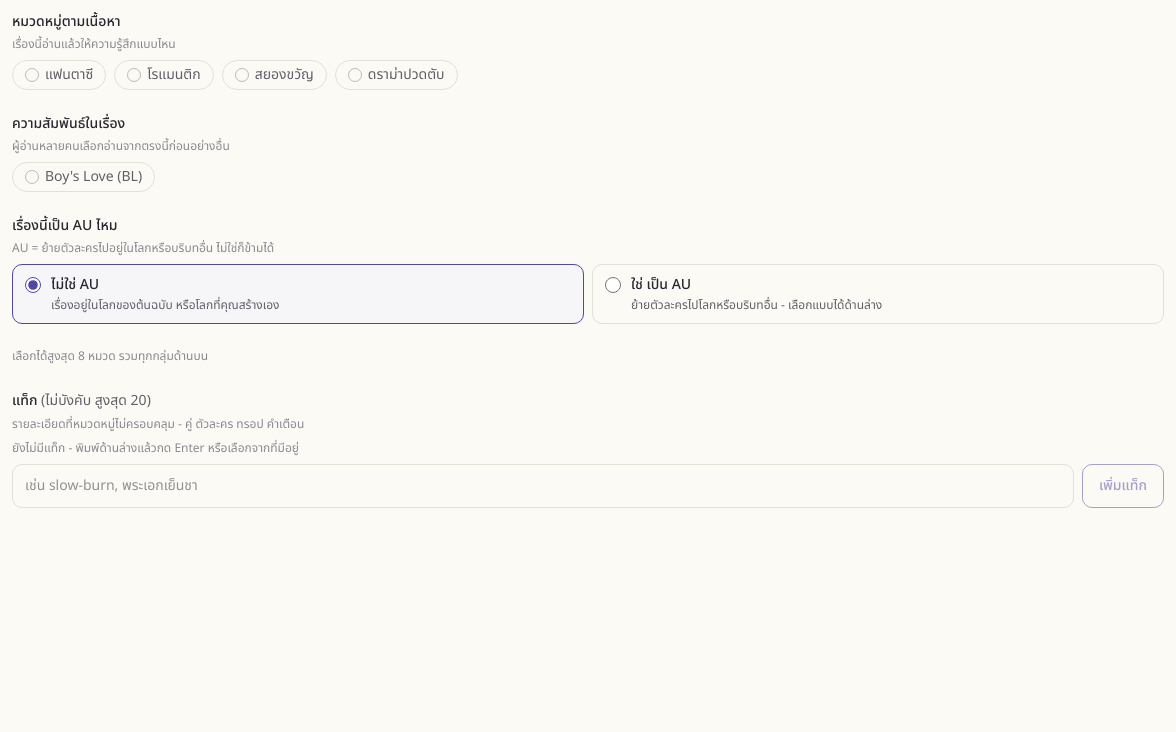
genre selection › keeps the AU list behind its switch
Expected: the text "เรื่องนี้เป็น AU ไหม" is shown, x1=12 y1=216 x2=118 y2=236
Expected: the field labelled "AU มหาลัย" is not shown
What coordinates should you click on to do the following:
click the radio button labelled "ใช่ เป็น AU"
I would click on:
 (613, 285)
Its box is x1=605 y1=277 x2=621 y2=293.
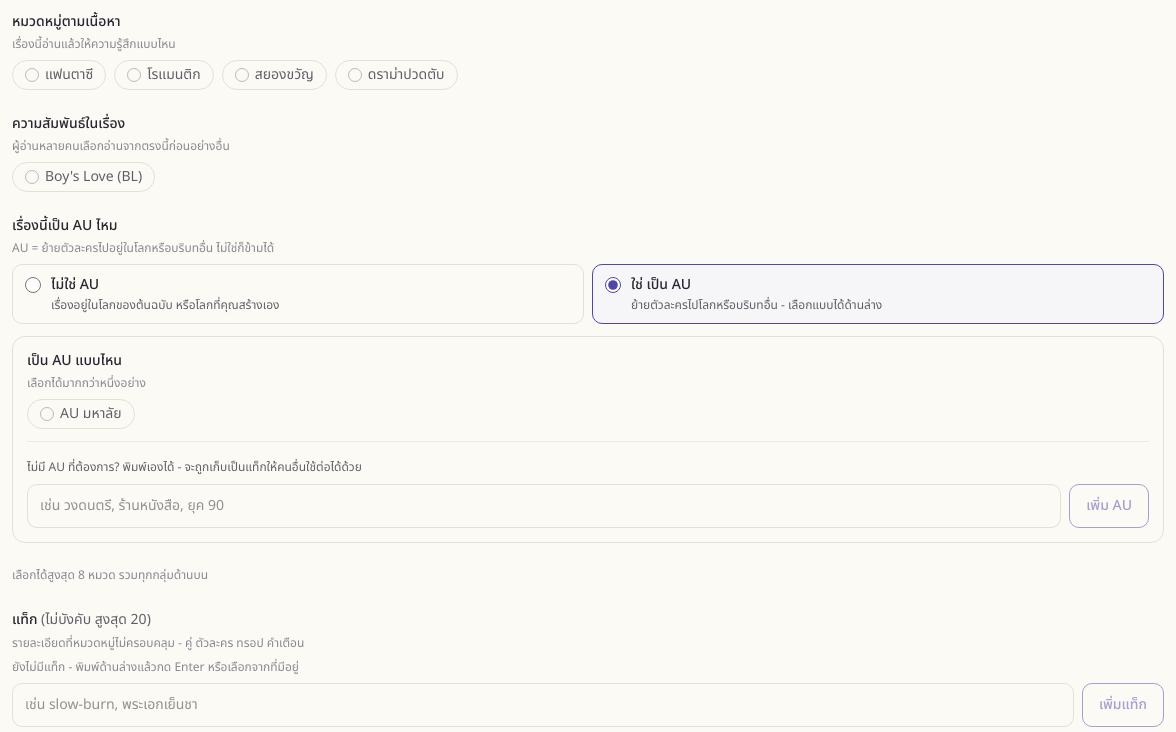
Now the checkbox labelled "AU มหาลัย" is shown, box x1=27 y1=399 x2=135 y2=429
